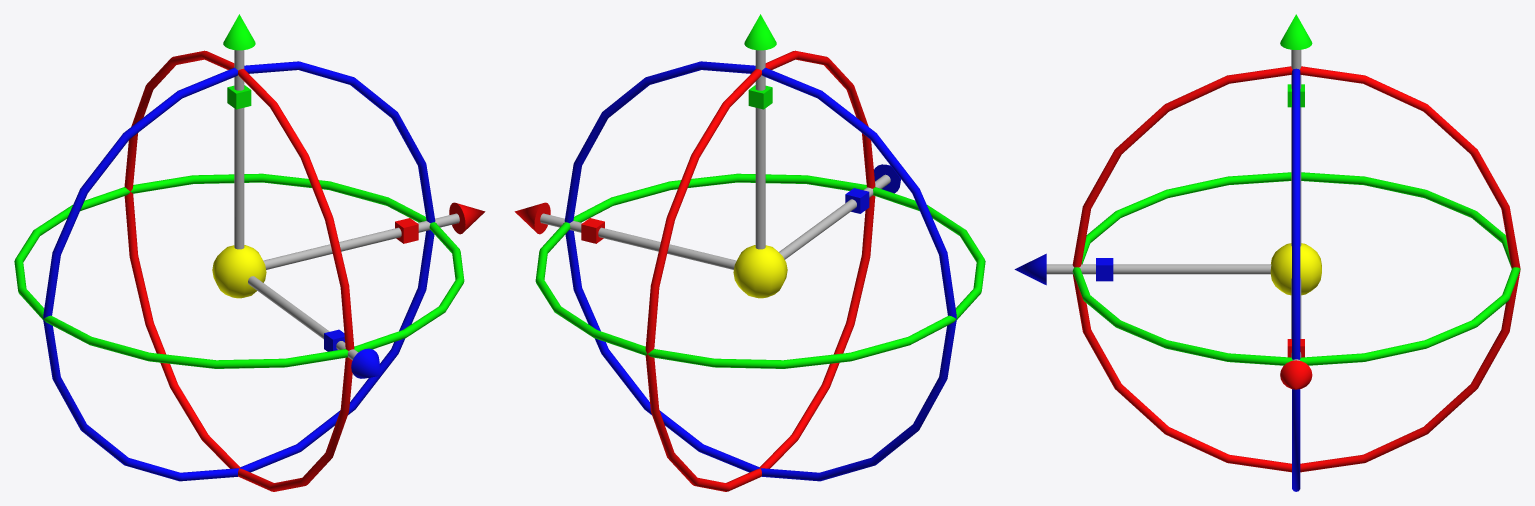
The model's file is transform_gizmo.fbx.
3 views of the same model, side by side, from view 1: azimuth 30°, elevation 25°; view 2: azimuth 150°, elevation 25°; view 3: azimuth 270°, elevation 25° (orthographic).
Parts seen in each view (by area): view 1: XRotationHandle, ZRotationHandle, YRotationHandle, Centroid, YAxis, ZAxis, XAxis, ZTranslationCone, YTranslationCone, XTranslationCone; view 2: XRotationHandle, ZRotationHandle, YRotationHandle, Centroid, YAxis, ZAxis, XAxis, YTranslationCone, XTranslationCone; view 3: ZRotationHandle, YRotationHandle, XRotationHandle, XAxis, Centroid, XTranslationCone, YTranslationCone, YAxis, ZTranslationCone.
Boxes of the visible parts, box(x1,y1,x2,y2) form: XRotationHandle: box(43, 61, 435, 481); ZRotationHandle: box(124, 50, 354, 491); YRotationHandle: box(14, 173, 464, 368); Centroid: box(212, 245, 266, 298); YAxis: box(234, 50, 244, 249); ZAxis: box(263, 213, 459, 269); XAxis: box(248, 276, 358, 360); ZTranslationCone: box(351, 348, 381, 378); YTranslationCone: box(223, 14, 255, 50); XTranslationCone: box(449, 202, 485, 234); XRotationHandle: box(564, 61, 956, 481); ZRotationHandle: box(645, 50, 875, 491); YRotationHandle: box(535, 173, 985, 368); Centroid: box(733, 245, 787, 298); YAxis: box(755, 50, 765, 249); ZAxis: box(540, 213, 736, 269); XAxis: box(779, 174, 890, 259); YTranslationCone: box(744, 14, 776, 50); XTranslationCone: box(514, 202, 550, 234); ZRotationHandle: box(1072, 66, 1520, 472); YRotationHandle: box(1072, 172, 1520, 365); XRotationHandle: box(1292, 68, 1300, 491); XAxis: box(1046, 264, 1271, 274); Centroid: box(1270, 243, 1321, 295); XTranslationCone: box(1280, 360, 1312, 389); YTranslationCone: box(1280, 14, 1312, 49); YAxis: box(1291, 49, 1301, 246); ZTranslationCone: box(1014, 253, 1046, 285).
Bounding box in the file's own units: 34.78 × 34.76 × 34.78.
